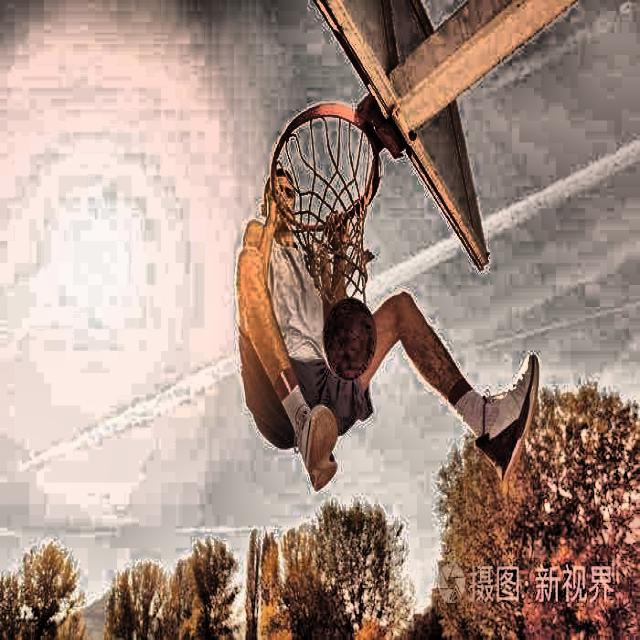board: (272, 103, 379, 303)
